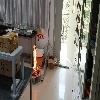fire: (32, 44, 39, 76)
